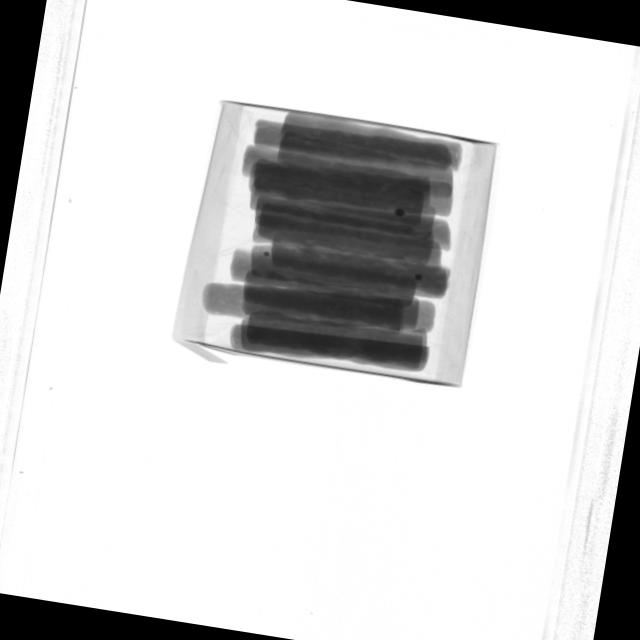ym: (396, 208, 407, 218), (415, 274, 424, 282), (264, 251, 270, 257), (397, 327, 402, 332)
